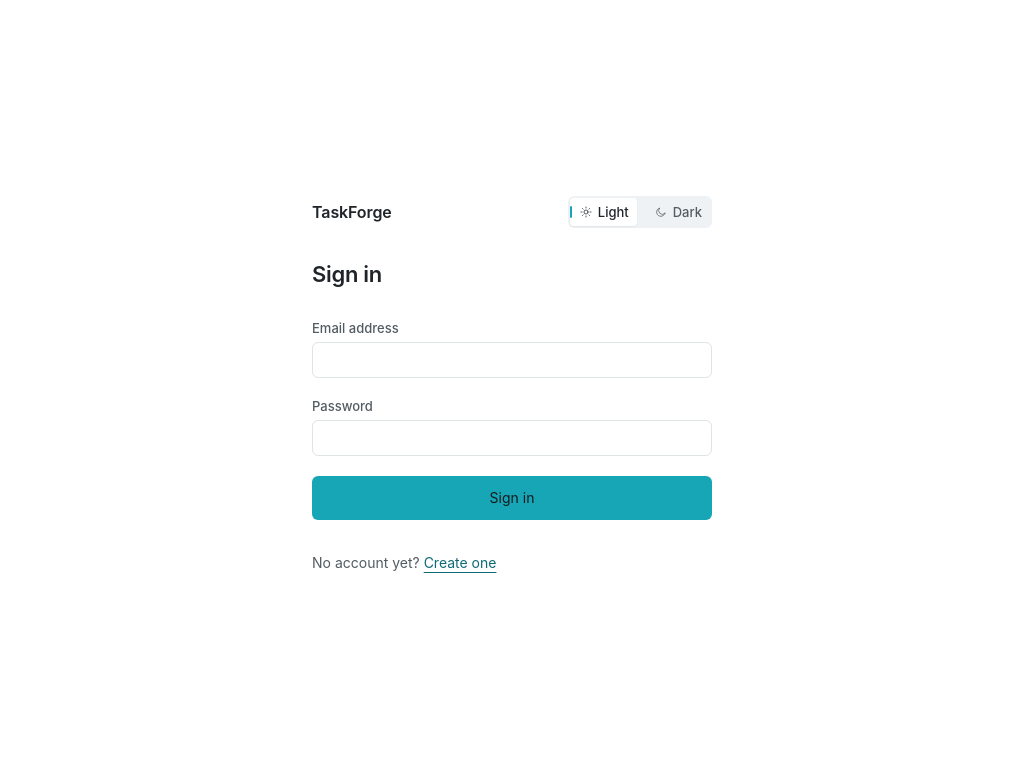
J-01 registration and sign-in › registers and reaches the zero-workspace state without a reload (AC-AUTH-01)
The width and height of the screenshot is (1024, 768).
expect the heading "Sign in" is shown: met, box 312,260 -> 382,286
Click the link "Create one".
click(460, 562)  # box 424,554 -> 496,570
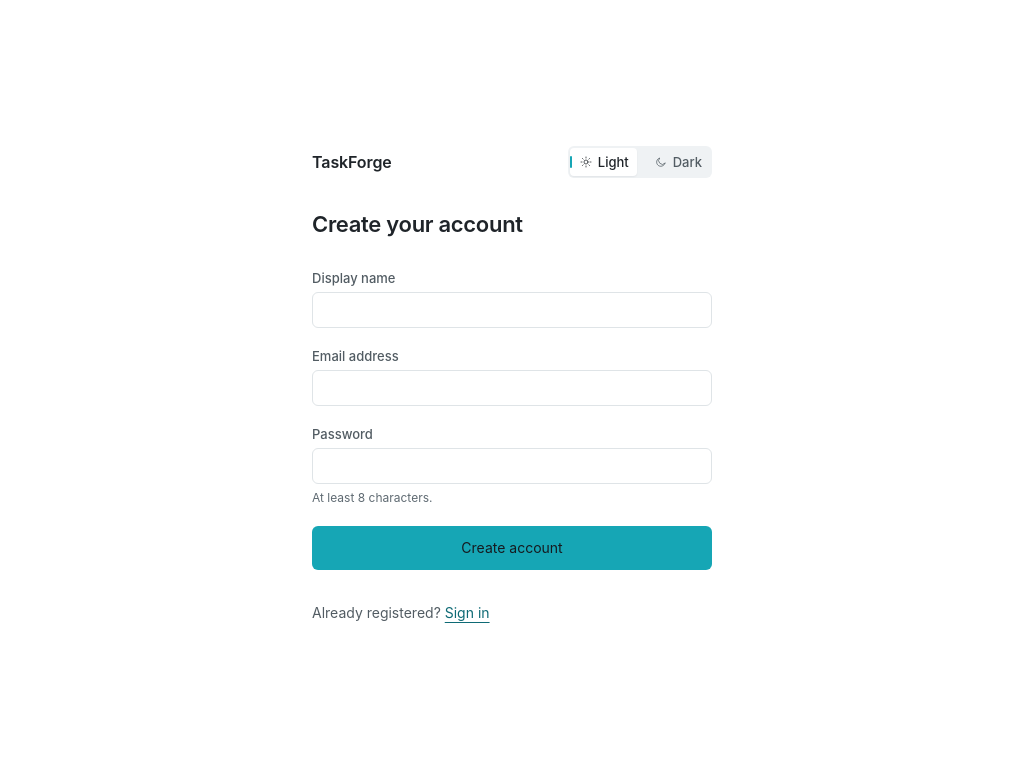
Type "Ada Lovelace" into the field labelled "Display name".
click(512, 310); type("Ada Lovelace")  # box 312,292 -> 712,328
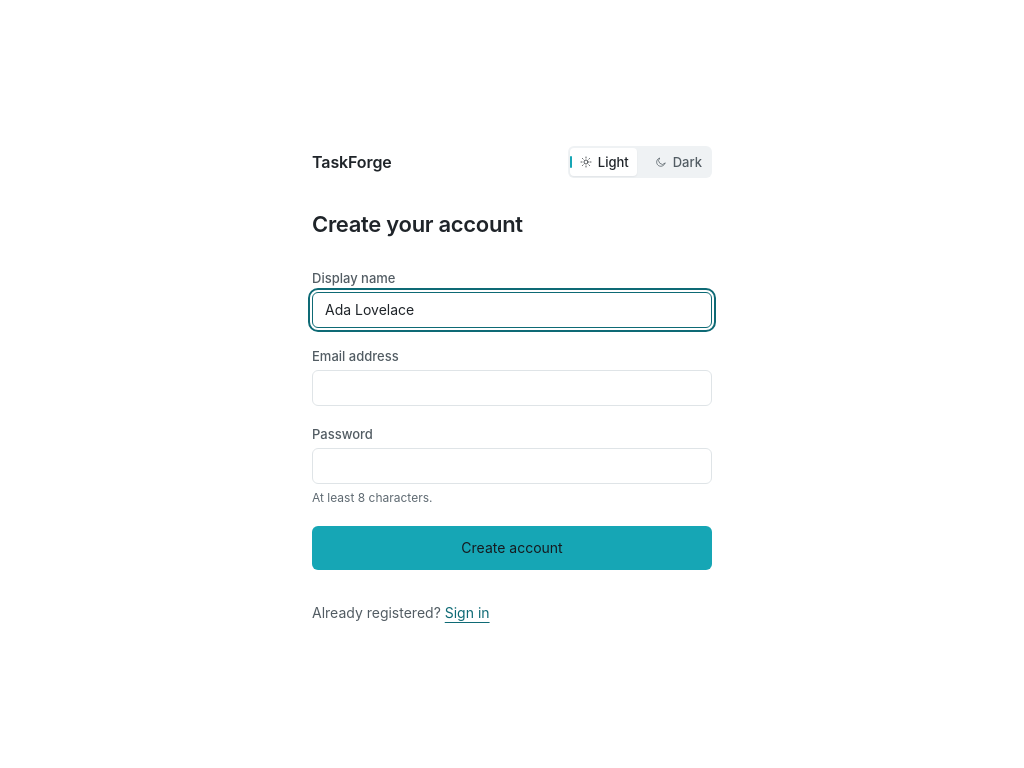
Type "ada@example.com" into the field labelled "Email address".
click(512, 388); type("ada@example.com")  # box 312,370 -> 712,406
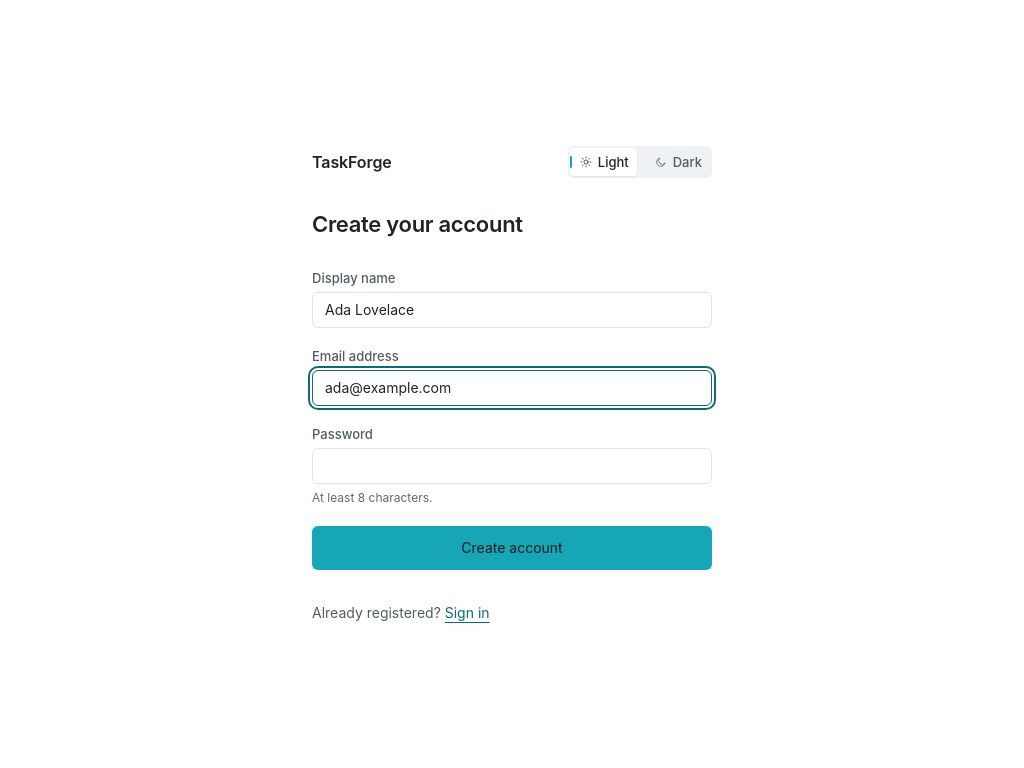
Type "a-good-password" into the password field labelled "Password".
click(512, 466); type("a-good-password")  # box 312,448 -> 712,484
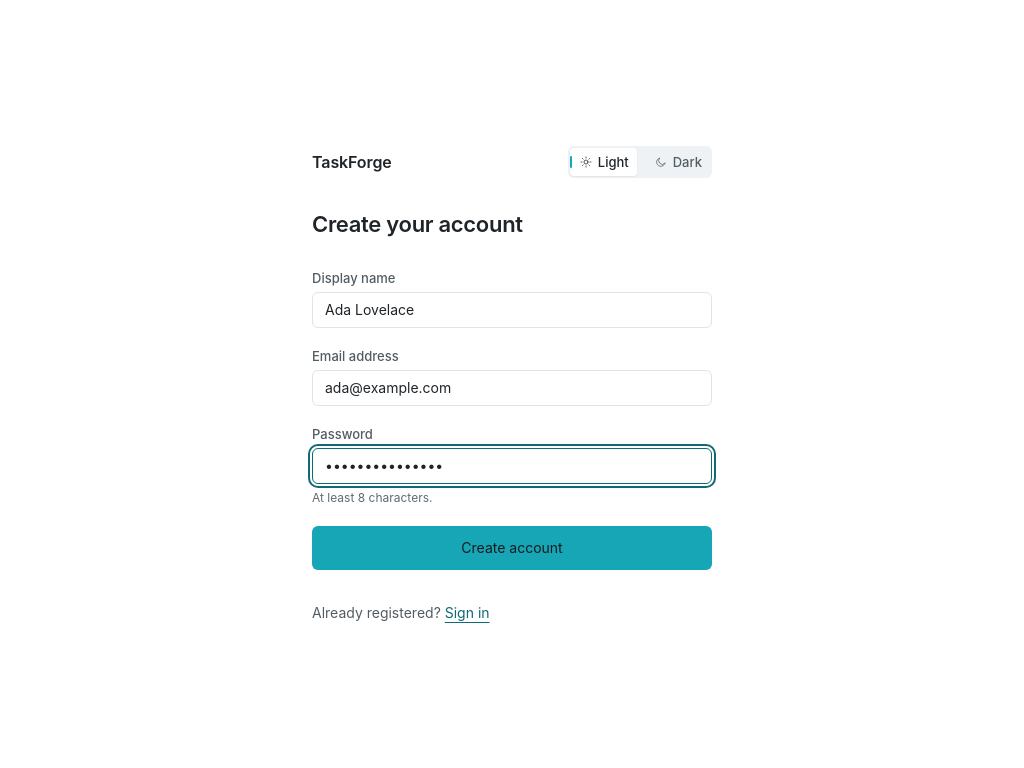
Click the button "Create account".
click(512, 548)  # box 312,526 -> 712,570
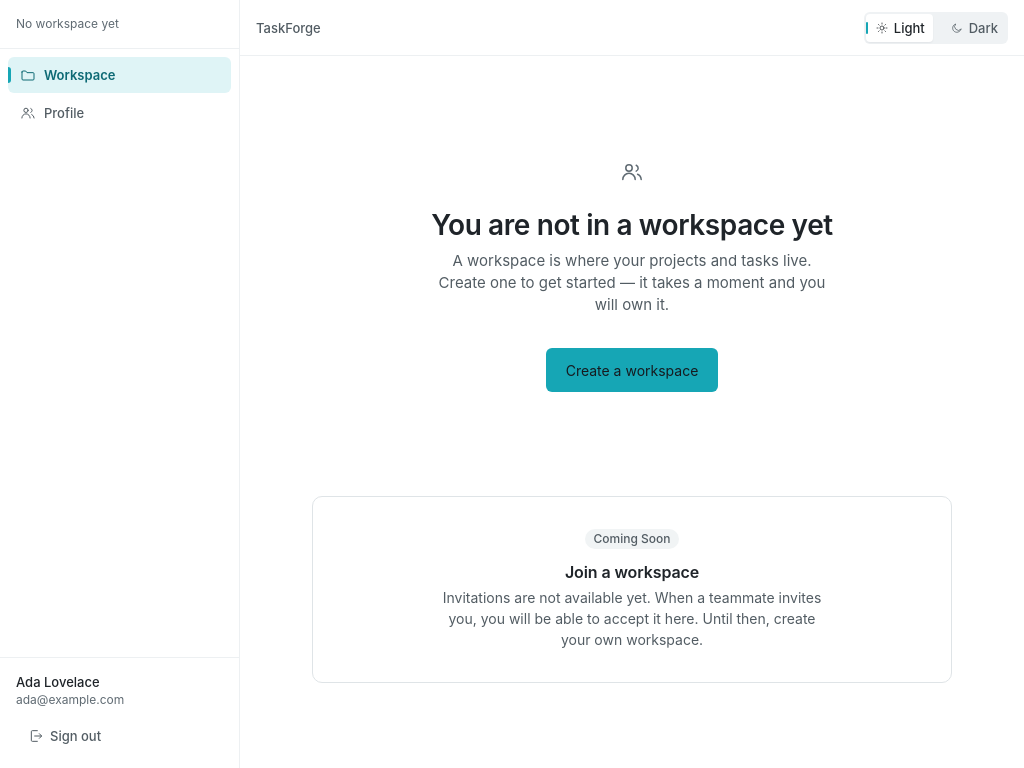
expect the heading "You are not in a workspace yet" is shown: met, box 431,208 -> 833,242
